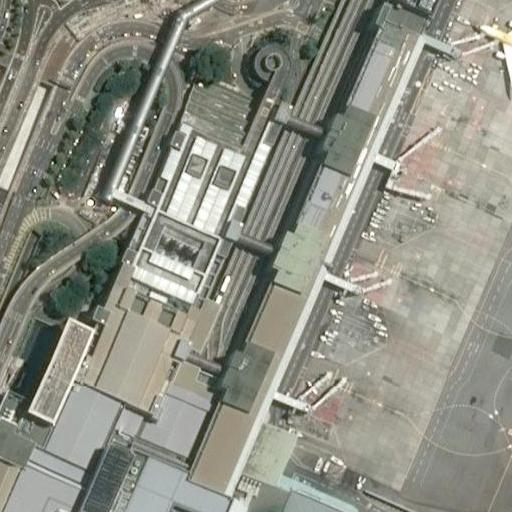Aircraft: (470, 2, 512, 96)
